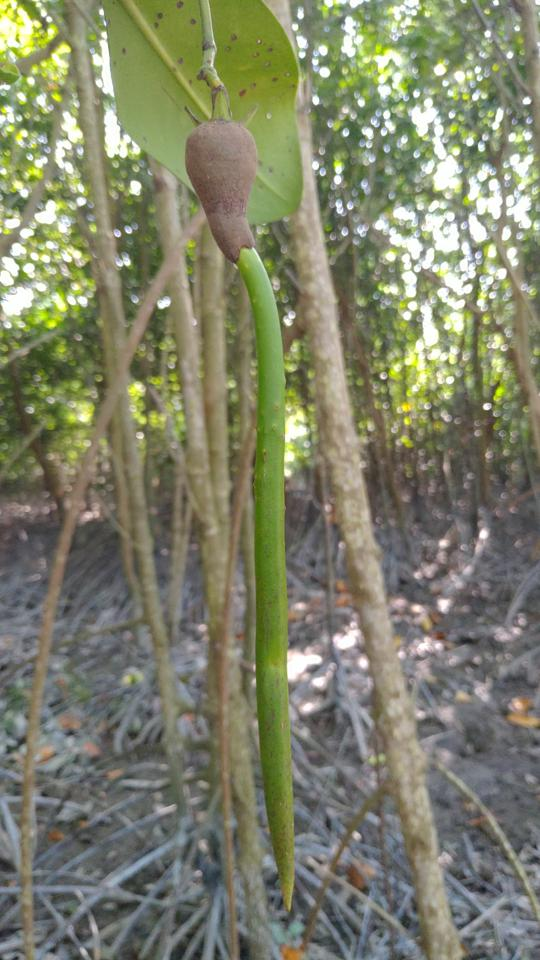mentah: (165, 89, 323, 930)
